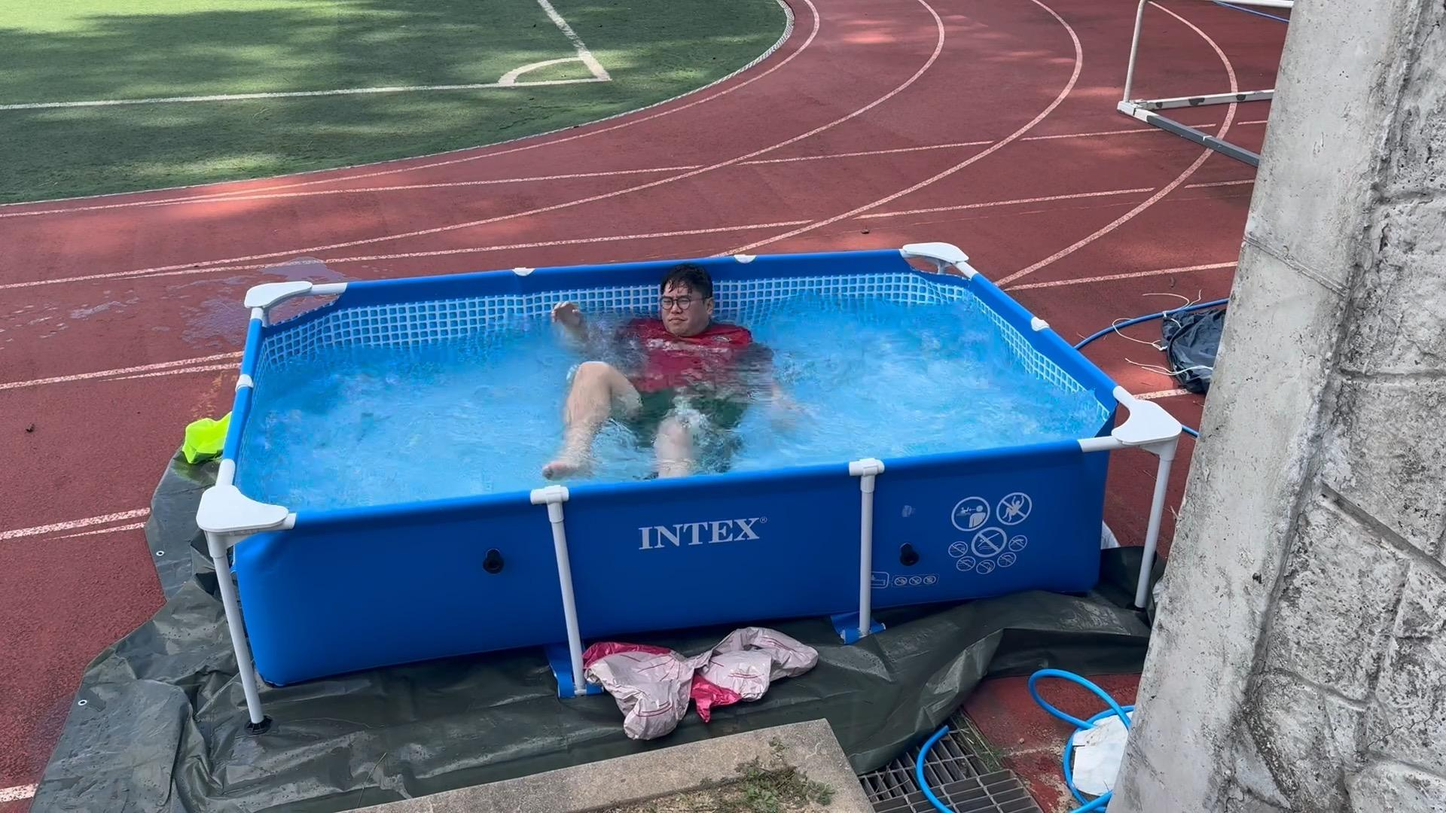Drowning: (521, 253, 801, 477)
